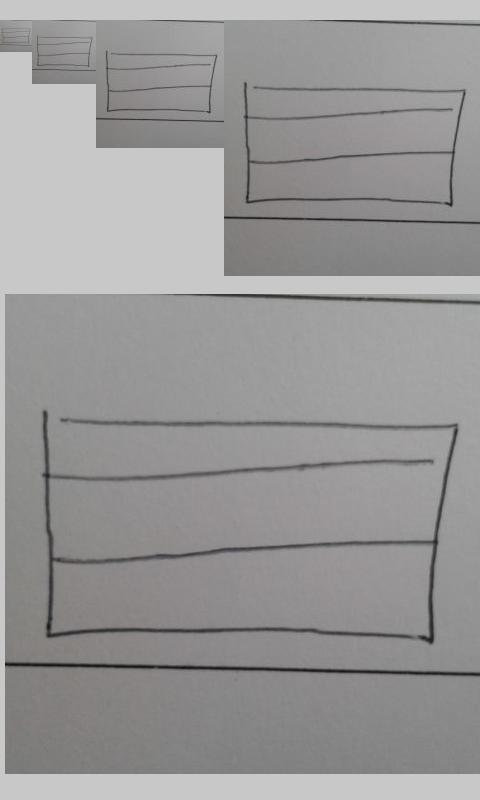list_view: (38, 409, 460, 647), (243, 85, 467, 209), (105, 51, 218, 114), (36, 35, 93, 67), (1, 27, 31, 44)
